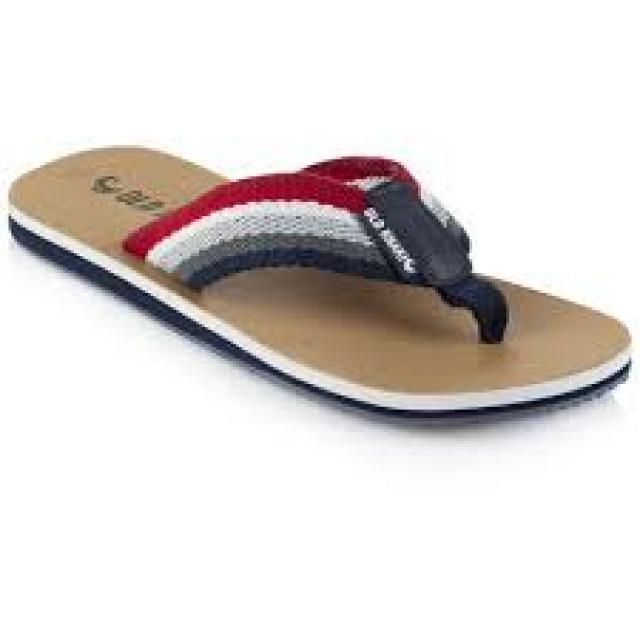other: (9, 148, 634, 414)
